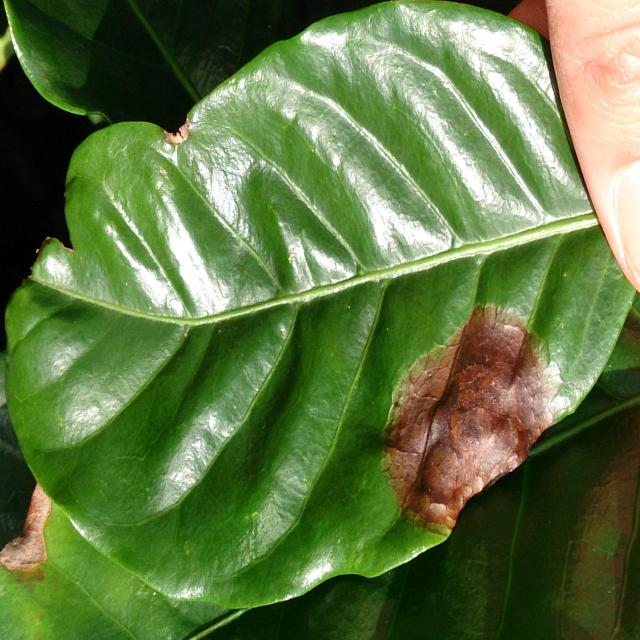Enfermedad-Mancha-de-hierro: (6, 0, 638, 636)
